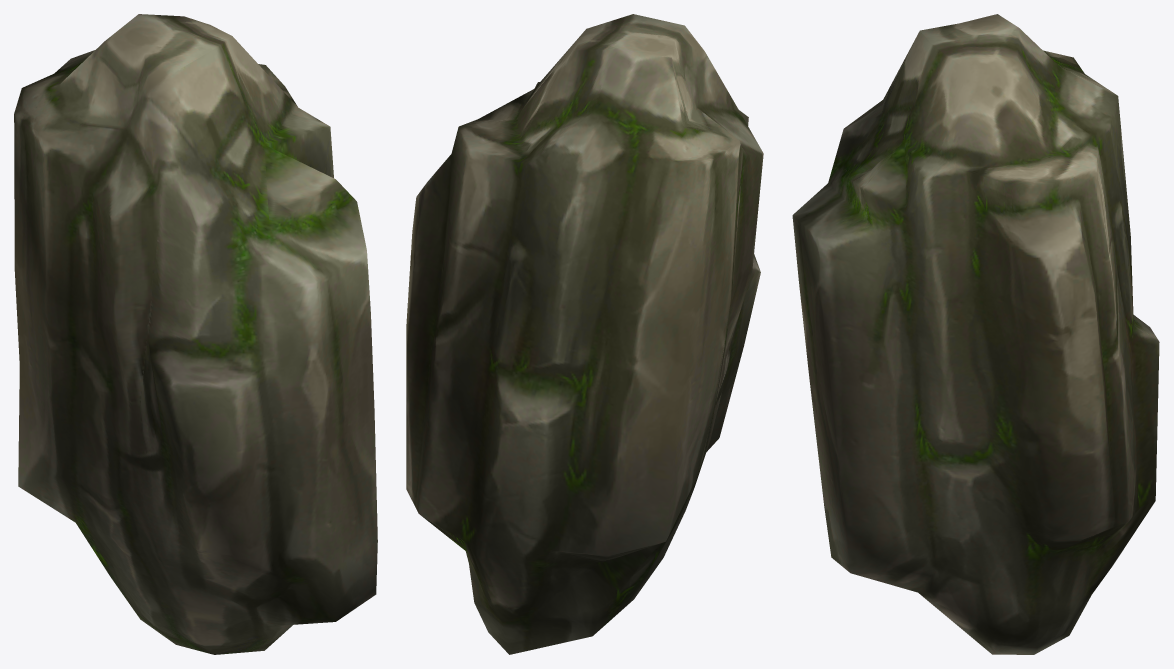
File: RockFormation_4_2 (29).fbx
3 views of the same model, side by side, from view 1: azimuth 30°, elevation 25°; view 2: azimuth 150°, elevation 25°; view 3: azimuth 270°, elevation 25° (orthographic). The views are drawn at different scales.
Visible parts, largest first — view 1: RockFormation_4_2 (29); view 2: RockFormation_4_2 (29); view 3: RockFormation_4_2 (29).
Part boxes in pixels (x1=…): RockFormation_4_2 (29): x1=14, y1=14, x2=377, y2=654; RockFormation_4_2 (29): x1=406, y1=14, x2=763, y2=654; RockFormation_4_2 (29): x1=792, y1=14, x2=1159, y2=654.
Size of the model in its own units: 237 by 484 by 275.
